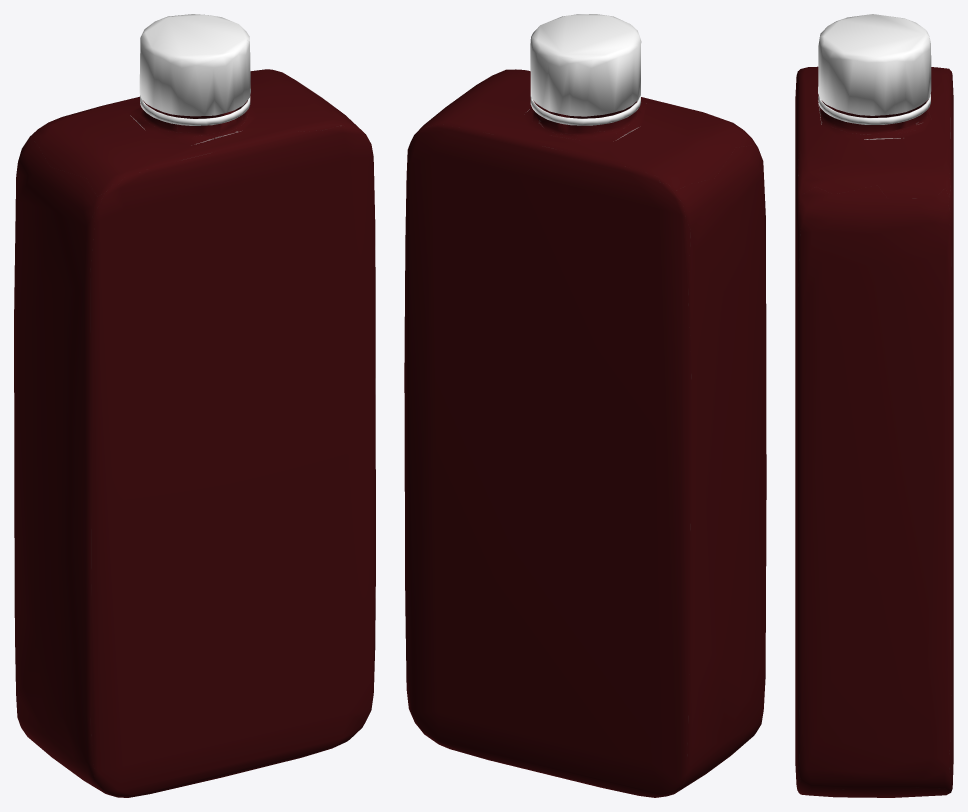
File: bottle.fbx
3 views of the same model, side by side, from view 1: azimuth 30°, elevation 25°; view 2: azimuth 150°, elevation 25°; view 3: azimuth 270°, elevation 25° (orthographic).
Visible parts, largest first — view 1: bottle, cap; view 2: bottle, cap; view 3: bottle, cap.
Part boxes in pixels (box(x1,y1,x2,y2)): bottle: box(14, 69, 375, 797); cap: box(139, 14, 250, 125); bottle: box(404, 69, 766, 797); cap: box(530, 14, 641, 125); bottle: box(795, 66, 953, 797); cap: box(818, 14, 931, 124).
Size of the model in its own units: 199 by 462 by 93.08.
2 materials, 2 textured.
